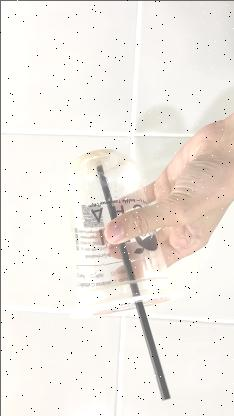Others: (64, 148, 182, 356)
